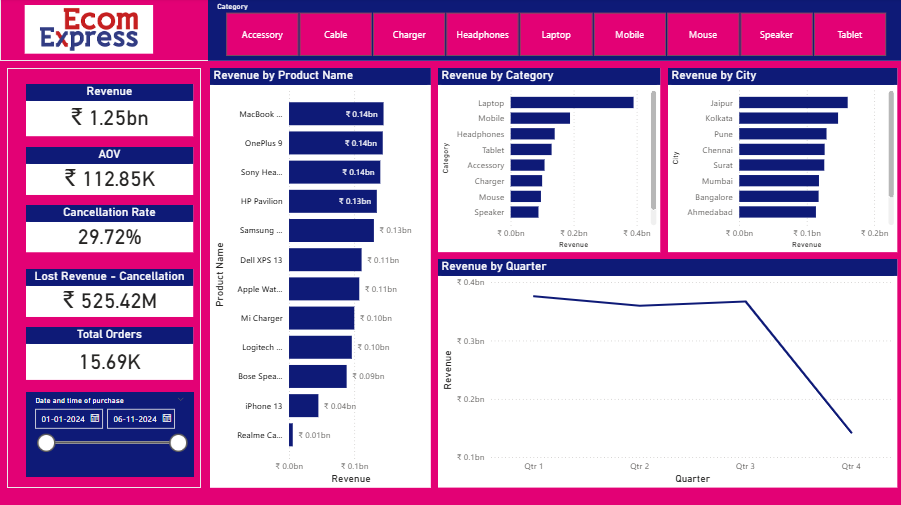

Layout of this report page (visuals, bound fields, positions):
{"tool":"powerbi","page":{"name":"Page 1","canvas":[1280,720],"ordinal":0},"visuals":[{"type":"shape","box":[9.9,99.2,275,595.3],"z":0},{"type":"shape","box":[0,0,1280,89],"z":1000},{"type":"image","box":[0,10.1,252,68.9],"z":2000},{"type":"barChart","fields":{"Y":["Table.Revenue"],"Category":["Products.Product Name"]},"box":[297.6,99.2,313.2,595.3],"z":2001},{"type":"barChart","fields":{"Y":["Table.Revenue"],"Category":["Products.Category"]},"box":[620.8,99.2,314.6,260.8],"z":2002},{"type":"lineChart","fields":{"Category":["Orders.Date and time of purchase.Variation.Date Hierarchy.Year","Orders.Date and time of purchase.Variation.Date Hierarchy.Quarter","Orders.Date and time of purchase.Variation.Date Hierarchy.Month","Orders.Date and time of purchase.Variation.Date Hierarchy.Day"],"Y":["Table.Revenue"]},"box":[620.6,370.1,650.9,324],"z":2003},{"type":"barChart","fields":{"Category":["Customers.City"],"Y":["Table.Revenue"]},"box":[946.1,99.4,325.4,260.6],"z":2004},{"type":"slicer","fields":{"Values":["Products.Category"]},"box":[294.8,0,985,89.3],"z":2005},{"type":"card","title":"Revenue","fields":{"Values":["Table.Revenue"]},"box":[36.9,121.9,236.7,73.7],"z":2006},{"type":"card","title":"AOV","fields":{"Values":["Table.AOV"]},"box":[36.9,211.2,236.7,68],"z":2007},{"type":"card","title":"Cancellation Rate","fields":{"Values":["Table.Cancellation rate"]},"box":[36.9,293.4,236.7,66.6],"z":2008},{"type":"card","title":"Lost Revenue - Cancellation","fields":{"Values":["Table.lost_revenue_canceletion"]},"box":[36.9,384.1,236.7,68],"z":2009},{"type":"card","title":"Total Orders","fields":{"Values":["CountNonNull(Orders.OrderID)"]},"box":[36.9,466.3,236.7,75.1],"z":2010},{"type":"slicer","fields":{"Values":["Orders.Date and time of purchase"]},"box":[36.9,558.4,236.7,120.5],"z":2011}]}

Visuals, with their boxes in screenshot pixels (x1, y1, x2, y2), scaled from the page's 1280x720 canvas onto the 901x505 screenshot:
shape: bbox=(7, 70, 201, 487)
shape: bbox=(0, 0, 900, 62)
image: bbox=(0, 7, 177, 55)
barChart - Table.Revenue x Products.Product Name: bbox=(209, 70, 430, 487)
barChart - Table.Revenue x Products.Category: bbox=(437, 70, 658, 252)
lineChart - Orders.Date and time of purchase.Variation.Date Hierarchy.Year x Orders.Date and time of purchase.Variation.Date Hierarchy.Quarter: bbox=(437, 260, 895, 487)
barChart - Customers.City x Table.Revenue: bbox=(666, 70, 895, 252)
slicer - Products.Category: bbox=(208, 0, 900, 63)
"Revenue" card: bbox=(26, 85, 193, 137)
"AOV" card: bbox=(26, 148, 193, 196)
"Cancellation Rate" card: bbox=(26, 206, 193, 252)
"Lost Revenue - Cancellation" card: bbox=(26, 269, 193, 317)
"Total Orders" card: bbox=(26, 327, 193, 380)
slicer - Orders.Date and time of purchase: bbox=(26, 392, 193, 476)
